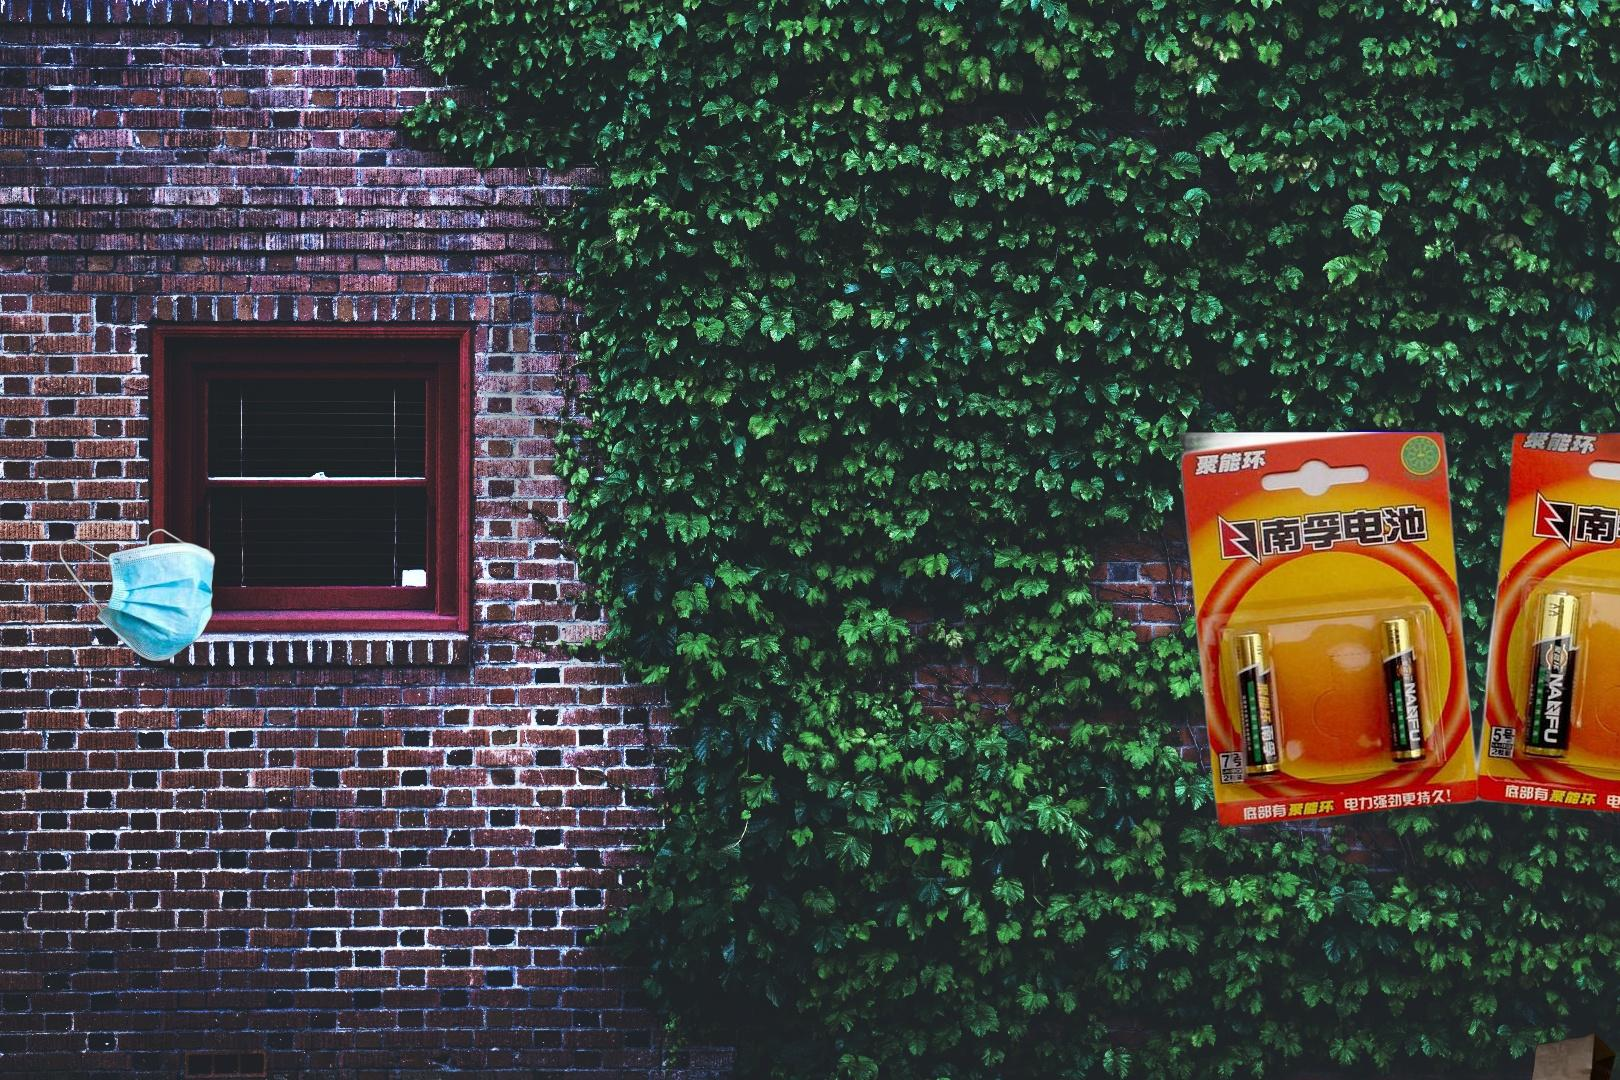battery: (1179, 418, 1620, 832)
paper-bag: (1520, 1032, 1619, 1080)
trash: (58, 526, 218, 664)
